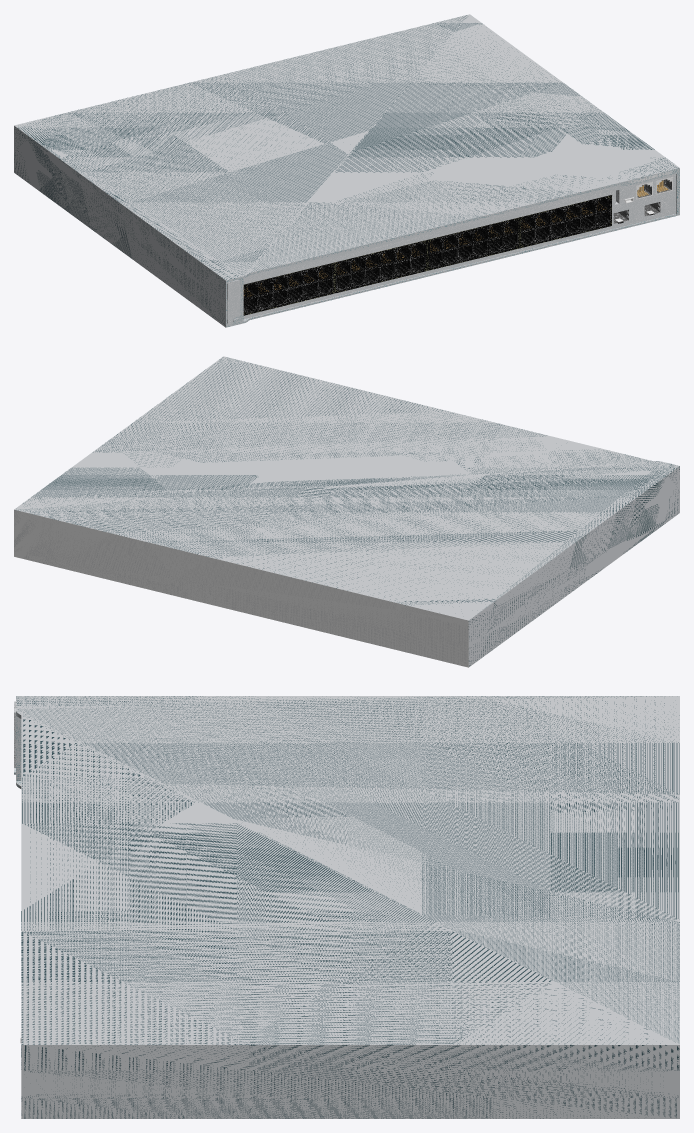
File: 2960-switch.glb
3 renders of one model, top to bottom at view 1: azimuth 30°, elevation 25°; view 2: azimuth 150°, elevation 25°; view 3: azimuth 270°, elevation 25°, orthographic. The views are drawn at different scales.
Parts seen in each view (by area): view 1: group_0; view 2: group_0; view 3: group_0.
Boxes of the visible parts, x1,y1,x2,y2 form: group_0: [14, 14, 679, 327]; group_0: [14, 356, 679, 667]; group_0: [14, 696, 679, 1118].
Size of the model in its own units: 2.36 by 0.2332 by 1.9.
